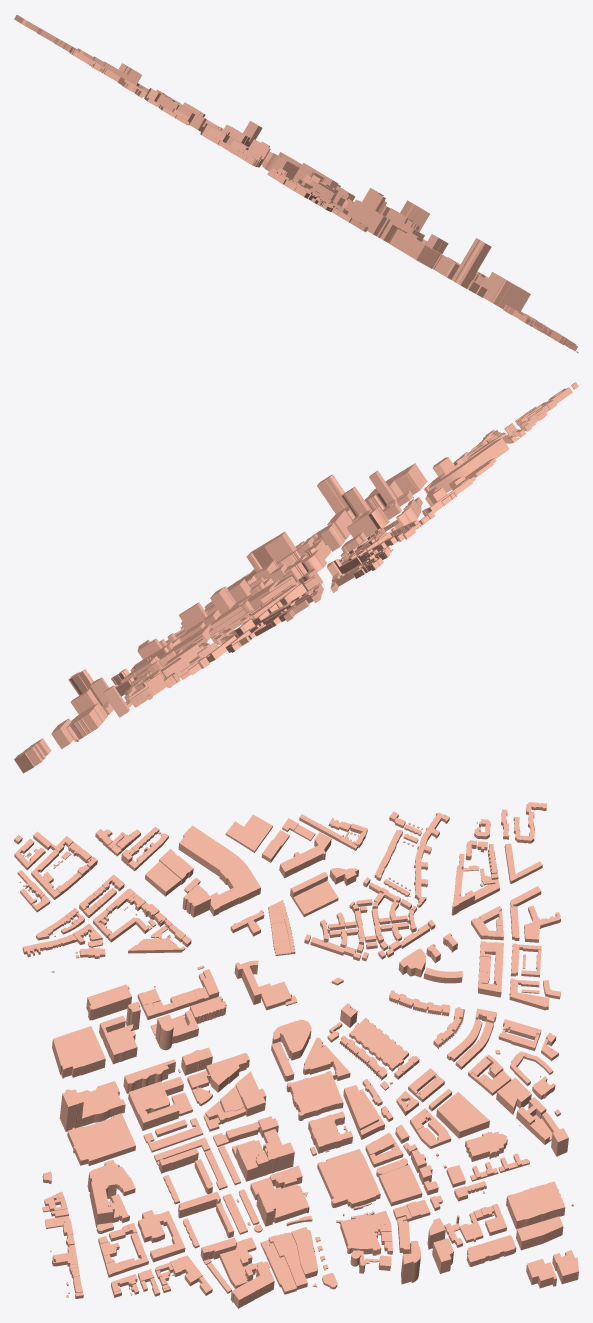
3 views of the same model, one above another, from view 1: azimuth 30°, elevation 25°; view 2: azimuth 150°, elevation 25°; view 3: azimuth 270°, elevation 25° (orthographic). The views are drawn at different scales.
Bounding box in the file's own units: 1082 × 795 × 1296.
